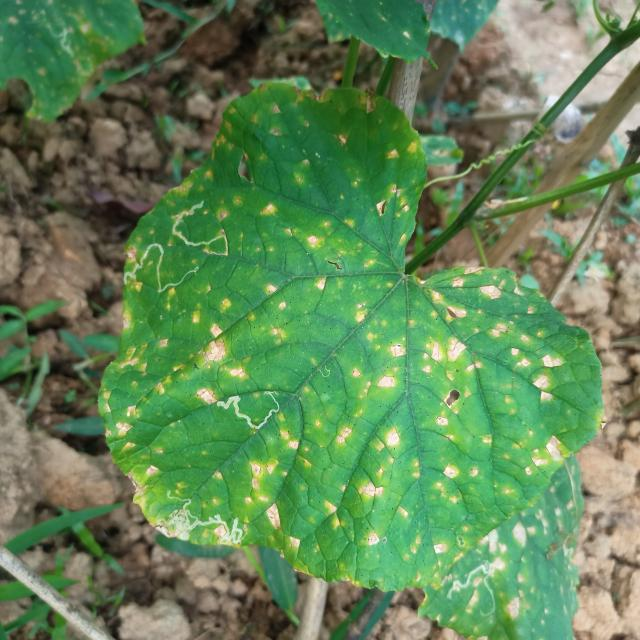disease_cucumber: (116, 114, 578, 566), (444, 482, 594, 626)
